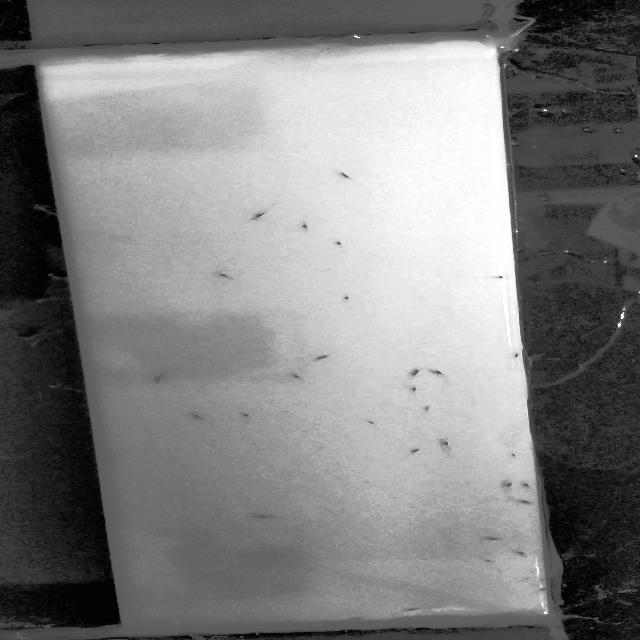shrimp: (248, 208, 279, 222), (478, 534, 512, 545), (246, 513, 291, 521), (492, 479, 522, 490), (338, 170, 363, 183), (502, 451, 523, 465), (312, 352, 334, 365), (153, 369, 172, 384), (476, 272, 506, 281), (403, 367, 427, 378), (334, 290, 356, 302), (326, 238, 344, 252), (474, 555, 499, 565), (431, 365, 450, 378), (242, 409, 260, 421), (403, 385, 424, 395), (420, 403, 436, 416), (296, 222, 313, 234), (398, 606, 430, 612), (99, 456, 123, 464), (289, 370, 304, 382), (216, 272, 233, 282), (410, 446, 426, 456), (436, 439, 452, 449), (365, 417, 379, 428), (190, 411, 208, 419), (350, 616, 373, 622), (514, 497, 529, 506), (520, 483, 535, 492), (534, 585, 550, 593), (514, 550, 529, 558)
